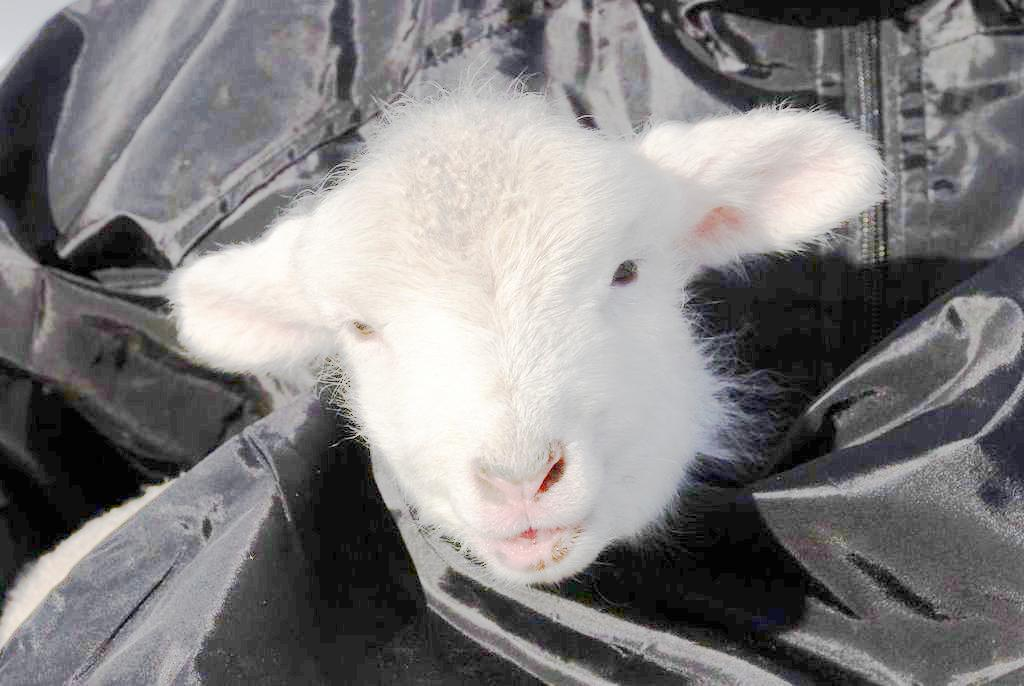Sheep: (170, 60, 888, 592)
